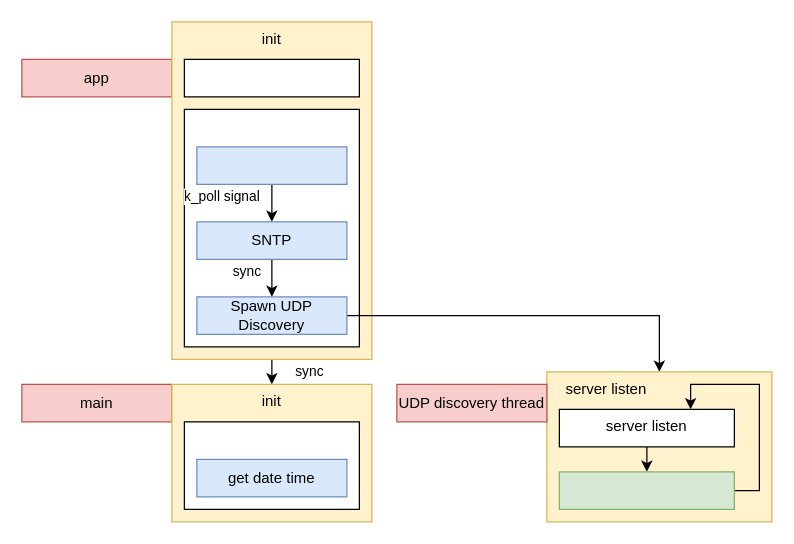
The diagram is 794 pixels wide and 544 high, and some of its shapes have lost their labels. The shapes that lost their labels are listed below. From the top down, each one's box as (x1, y1, x2, y2) in pixels, then its label:
(183, 58, 359, 97): hw
(196, 146, 347, 184): DHCP / set up DNS
(183, 108, 359, 347): if
(183, 421, 359, 509): while 1
(558, 471, 734, 509): k_yield
